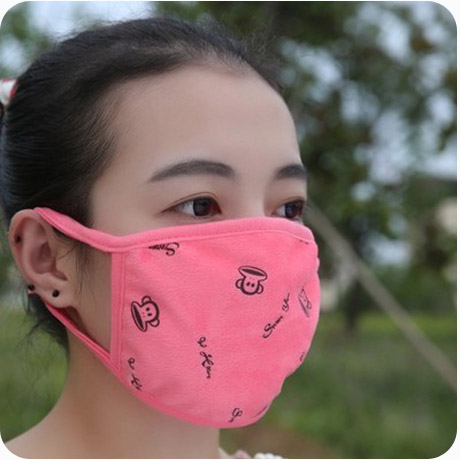face_mask: (82, 72, 322, 408)
